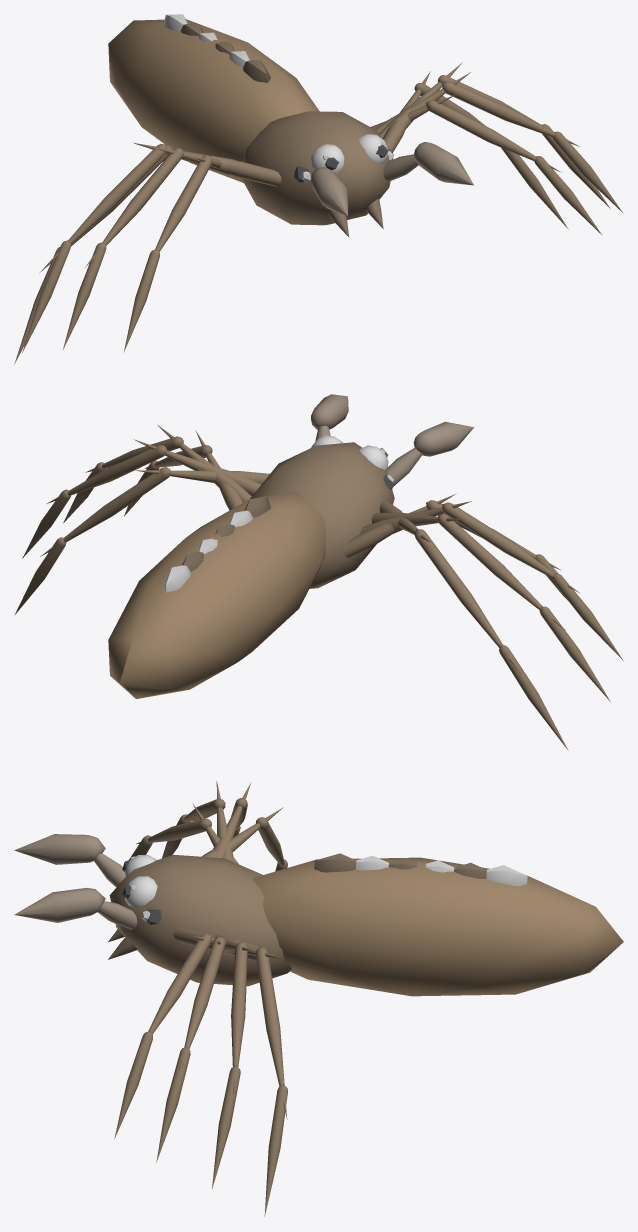
File: scytodes-pallida.glb
The picture shows the model from 3 angles, top to bottom: view 1: azimuth 30°, elevation 25°; view 2: azimuth 150°, elevation 25°; view 3: azimuth 270°, elevation 25°; orthographic projection. The views are drawn at different scales.
Visible parts, largest first — view 1: abdomen, cephalothorax, leg1-r0, leg2-l0, leg2-r0, leg3-l0, leg3-r0, leg0-l0, leg0-r0, palp-l1, leg1-l0, palp-r1 (+3 smaller); view 2: abdomen, cephalothorax, leg1-r0, leg0-r0, leg0-l0, leg2-r0, leg1-l0, leg2-l0, leg3-r0, palp-r1, leg3-l0, palp-l1 (+1 smaller); view 3: abdomen, cephalothorax, leg0-l0, leg1-l0, leg3-l0, leg2-l0, palp-l1, palp-r1, leg3-r0, leg2-r0, leg0-r0, eye0-l (+2 smaller).
Part boxes in pixels (x1,y1,x2,y2): abdomen: (108,14,319,182); cephalothorax: (242,111,393,225); leg1-r0: (22,142,237,352); leg2-l0: (375,72,623,213); leg2-r0: (63,148,226,349); leg3-l0: (370,94,602,235); leg3-r0: (123,155,243,352); leg0-l0: (382,71,568,229); leg0-r0: (14,143,281,364); palp-l1: (413,142,474,185); leg1-l0: (379,62,610,208); palp-r1: (310,167,348,216); abdomen: (108,492,326,698); cephalothorax: (249,442,394,588); leg1-r0: (371,512,610,701); leg0-r0: (379,500,568,750); leg0-l0: (14,467,269,615); leg2-r0: (360,501,623,660); leg1-l0: (22,439,261,558); leg2-l0: (63,424,251,523); leg3-r0: (344,493,567,600); palp-r1: (413,421,473,456); leg3-l0: (124,430,242,516); palp-l1: (311,394,348,429); abdomen: (253,853,623,996); cephalothorax: (109,854,291,986); leg0-l0: (173,927,287,1216); leg1-l0: (210,934,250,1189); leg3-l0: (114,933,258,1138); leg2-l0: (156,936,232,1162); palp-l1: (14,887,105,922); palp-r1: (14,834,105,864); leg3-r0: (129,803,238,864); leg2-r0: (162,781,233,861); leg0-r0: (202,807,287,871); eye0-l: (122,876,157,908).
Size of the model in its own units: 0.6814 by 0.2317 by 0.583.
